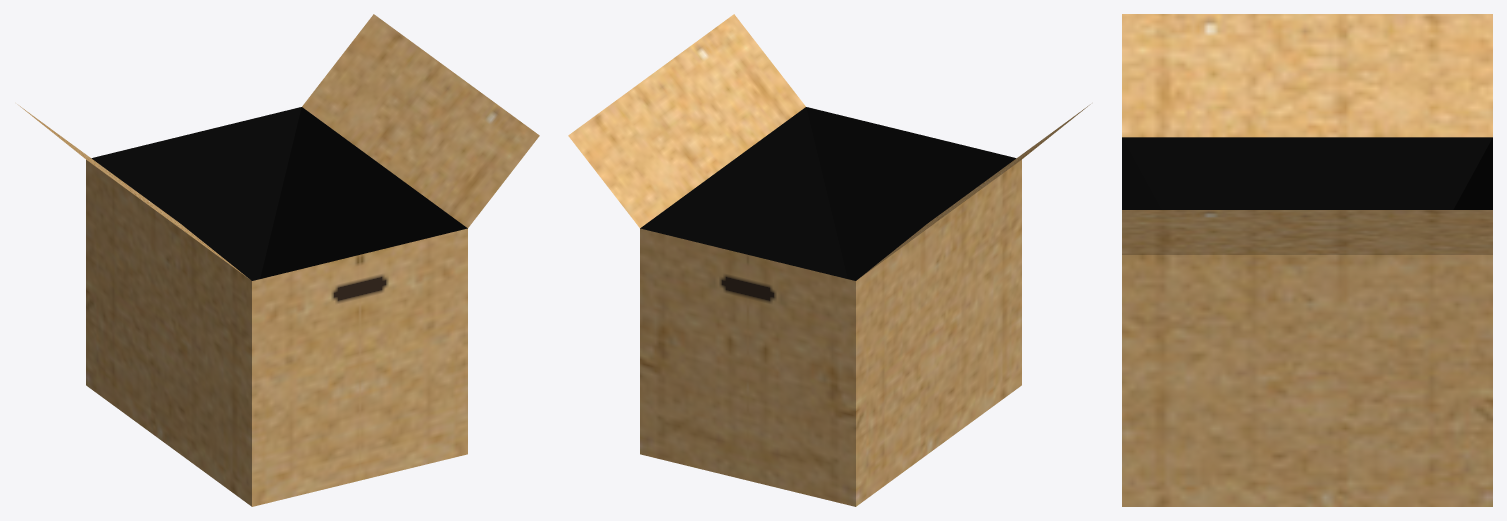
Rendered from danboopen.fbx.
The picture shows the model from 3 angles, left to right: view 1: azimuth 30°, elevation 25°; view 2: azimuth 150°, elevation 25°; view 3: azimuth 270°, elevation 25°; orthographic projection. The views are drawn at different scales.
Visible parts, largest first — view 1: Cube; view 2: Cube; view 3: Cube.
Boxes of the visible parts, x1=… form: Cube: x1=17, y1=14, x2=539, y2=506; Cube: x1=568, y1=14, x2=1090, y2=506; Cube: x1=1122, y1=14, x2=1492, y2=506.
Bounding box in the file's own units: 40 × 50 × 40.
Materials: 2 (1 with a texture image).
